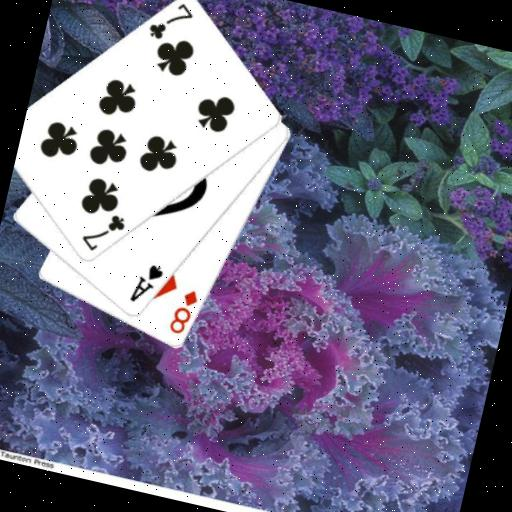7C: (76, 206, 129, 260), (143, 0, 197, 48)
8D: (165, 284, 202, 340)
AS: (126, 258, 167, 310)
